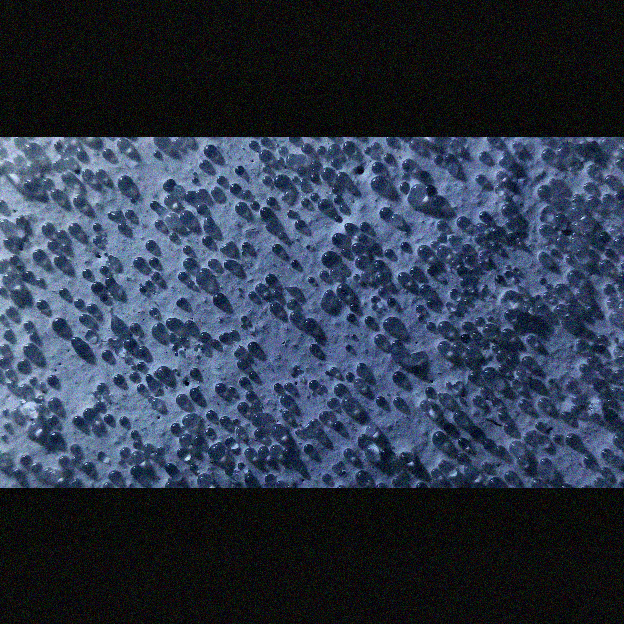GrassBeadSeg: (21, 135, 612, 463), (19, 193, 581, 463), (72, 163, 596, 424), (117, 139, 598, 420), (138, 167, 589, 462), (94, 145, 565, 412), (17, 253, 573, 466), (102, 147, 546, 406), (18, 143, 560, 347), (103, 157, 501, 423), (54, 195, 541, 408), (201, 223, 609, 476), (47, 158, 484, 384), (244, 152, 552, 457), (269, 180, 592, 462), (47, 234, 567, 408), (27, 303, 565, 462), (51, 202, 513, 385), (17, 212, 557, 368), (126, 208, 581, 391), (241, 240, 577, 482), (58, 307, 566, 465), (130, 169, 406, 455), (194, 176, 506, 419), (179, 209, 514, 424), (199, 173, 613, 340), (273, 147, 553, 393), (212, 186, 593, 363), (23, 319, 523, 453), (240, 190, 575, 390), (69, 221, 579, 349), (129, 150, 489, 331), (117, 210, 489, 383), (49, 181, 295, 441), (183, 220, 461, 446), (92, 227, 533, 365), (281, 177, 584, 370), (108, 199, 315, 479), (92, 241, 339, 471), (400, 193, 607, 460), (194, 228, 447, 443), (182, 215, 465, 406), (72, 194, 613, 292), (414, 149, 568, 481), (152, 321, 571, 442), (99, 263, 596, 363), (177, 277, 467, 448), (154, 219, 466, 373), (36, 183, 408, 308), (189, 173, 351, 457), (78, 178, 469, 288), (167, 203, 333, 457), (117, 200, 348, 378), (244, 204, 536, 344), (81, 147, 201, 486), (250, 139, 368, 481), (82, 318, 484, 418), (163, 144, 327, 389), (54, 183, 550, 264), (23, 142, 311, 279), (228, 243, 485, 394), (266, 218, 525, 365), (144, 372, 543, 467), (330, 153, 481, 403), (189, 323, 461, 461), (303, 277, 513, 453), (54, 253, 361, 373), (344, 177, 552, 350), (207, 143, 422, 310), (139, 169, 505, 267), (149, 199, 275, 482), (33, 188, 213, 384), (327, 142, 473, 380), (126, 197, 258, 457), (78, 297, 495, 379), (274, 152, 465, 330), (30, 255, 368, 355), (271, 229, 444, 421), (48, 362, 587, 423), (129, 144, 266, 381), (450, 137, 565, 418), (342, 144, 478, 381), (107, 192, 288, 367), (170, 309, 421, 432), (208, 321, 435, 457), (28, 301, 353, 392), (123, 337, 466, 422), (41, 140, 354, 233), (123, 179, 293, 350), (58, 193, 340, 296), (154, 234, 447, 332), (444, 158, 621, 320), (363, 146, 612, 260), (245, 206, 392, 399), (42, 258, 605, 308), (281, 158, 511, 278), (149, 249, 472, 331), (112, 173, 237, 384), (263, 205, 562, 293), (95, 167, 515, 228), (154, 364, 429, 457), (74, 259, 229, 424), (386, 162, 560, 306), (36, 174, 225, 306), (433, 153, 529, 408), (150, 243, 432, 329), (255, 287, 449, 409), (220, 192, 318, 426), (237, 258, 385, 411), (235, 345, 477, 438), (212, 174, 386, 303), (91, 286, 514, 339), (114, 314, 246, 480), (196, 187, 277, 437), (355, 194, 545, 298), (101, 342, 318, 433), (149, 221, 355, 314), (154, 137, 421, 208), (304, 151, 497, 249), (9, 257, 458, 298), (57, 156, 282, 237), (25, 176, 97, 428), (109, 241, 501, 286), (215, 148, 272, 457), (82, 269, 225, 392), (375, 217, 468, 405), (165, 316, 348, 410), (125, 210, 298, 309), (88, 406, 485, 448), (495, 354, 615, 488), (22, 341, 248, 411), (29, 351, 504, 383), (419, 314, 574, 412), (504, 174, 608, 320), (300, 218, 433, 329), (10, 207, 264, 265), (88, 302, 468, 340), (352, 212, 564, 279), (469, 287, 623, 379), (93, 418, 284, 486), (445, 309, 617, 384), (399, 180, 609, 241), (229, 258, 605, 292), (53, 176, 98, 442), (350, 213, 446, 336), (240, 249, 375, 336), (380, 157, 440, 344), (248, 140, 293, 389), (150, 250, 548, 278), (245, 398, 431, 457), (533, 302, 604, 456), (119, 335, 209, 456), (32, 247, 226, 303), (280, 431, 474, 487), (205, 310, 302, 419), (227, 356, 497, 394), (250, 315, 368, 401), (274, 288, 334, 456), (191, 151, 512, 182), (236, 323, 450, 369), (103, 275, 158, 448), (210, 144, 286, 268), (497, 203, 616, 282), (207, 257, 277, 391), (387, 247, 517, 319), (451, 297, 617, 353), (372, 262, 496, 335), (398, 219, 446, 405), (142, 367, 525, 390), (52, 316, 198, 376), (474, 140, 521, 323), (448, 233, 514, 363), (466, 339, 603, 401), (119, 137, 287, 186), (279, 290, 350, 404), (494, 385, 614, 451), (269, 300, 333, 422), (247, 289, 325, 389), (366, 259, 492, 320), (117, 174, 187, 282), (26, 146, 82, 280), (122, 318, 193, 423), (287, 332, 385, 405), (61, 294, 379, 316), (411, 264, 505, 338), (399, 385, 490, 460), (475, 331, 543, 428), (148, 233, 343, 266), (448, 258, 612, 297), (123, 316, 315, 349), (103, 210, 171, 303), (281, 196, 309, 419), (242, 368, 403, 406), (197, 203, 294, 266), (305, 244, 385, 320), (93, 233, 212, 284), (512, 146, 551, 299), (146, 394, 299, 433), (82, 397, 161, 471), (68, 225, 111, 358), (51, 188, 109, 283), (164, 193, 576, 206), (185, 256, 381, 283), (254, 195, 275, 437), (3, 420, 80, 486), (396, 271, 436, 397), (129, 321, 489, 335), (252, 378, 358, 425), (144, 278, 213, 350), (28, 312, 146, 354), (518, 337, 586, 407), (197, 181, 344, 213), (378, 173, 484, 217), (255, 266, 413, 295), (230, 246, 372, 278), (261, 163, 338, 221), (382, 240, 408, 407), (24, 140, 63, 251), (36, 442, 180, 472), (239, 271, 276, 386), (58, 215, 214, 242), (6, 176, 67, 245), (234, 164, 269, 283), (331, 231, 374, 326), (138, 279, 193, 353), (178, 434, 256, 485), (469, 426, 536, 485), (338, 463, 500, 487), (41, 218, 300, 233), (14, 135, 29, 392), (494, 405, 577, 451), (176, 159, 202, 305), (119, 415, 284, 438), (54, 382, 144, 424), (454, 342, 538, 386), (30, 292, 106, 339), (391, 292, 430, 383), (356, 432, 434, 476), (252, 289, 280, 409), (197, 443, 273, 487), (293, 338, 401, 368), (538, 223, 551, 467), (182, 249, 337, 269), (354, 377, 392, 458), (291, 154, 345, 211), (485, 353, 517, 448), (449, 257, 516, 302), (92, 221, 349, 232), (277, 215, 349, 254), (182, 432, 287, 458), (87, 301, 357, 311), (321, 244, 448, 265), (575, 191, 616, 256), (193, 434, 294, 458), (156, 201, 244, 228), (371, 160, 477, 182), (512, 239, 528, 382), (150, 398, 187, 458), (185, 189, 307, 207), (370, 141, 389, 256), (487, 371, 549, 406), (153, 155, 178, 240), (137, 331, 228, 354), (1, 383, 45, 429), (170, 460, 249, 485), (462, 462, 540, 487), (448, 140, 566, 156), (527, 435, 594, 463), (15, 214, 41, 285), (327, 361, 367, 407), (429, 458, 520, 478), (51, 170, 73, 252), (91, 255, 142, 290), (600, 298, 611, 456), (503, 428, 623, 442), (573, 220, 591, 311), (335, 282, 349, 394), (595, 333, 619, 395), (16, 455, 80, 478), (553, 177, 576, 241), (11, 466, 81, 487), (432, 250, 488, 276), (480, 396, 498, 470), (244, 174, 299, 198), (66, 149, 160, 163), (305, 243, 344, 276), (143, 447, 196, 471), (424, 151, 453, 194), (130, 343, 181, 367), (383, 270, 431, 295), (309, 165, 335, 211), (175, 392, 217, 420), (13, 146, 57, 172), (1, 271, 14, 352), (426, 239, 456, 274), (252, 419, 341, 430), (281, 172, 317, 199), (579, 213, 590, 297), (436, 229, 503, 242), (494, 273, 550, 288), (118, 445, 162, 463), (401, 175, 434, 199), (143, 442, 169, 472), (504, 263, 544, 282), (73, 267, 92, 306), (466, 329, 495, 354), (26, 155, 73, 170), (482, 454, 528, 469), (332, 382, 356, 410), (464, 355, 506, 371), (294, 258, 327, 278), (286, 208, 341, 220), (316, 144, 334, 180), (262, 150, 281, 184), (1, 270, 44, 285), (309, 386, 325, 426), (503, 421, 533, 441), (235, 401, 252, 436), (609, 189, 621, 234), (177, 333, 224, 344), (575, 287, 596, 311), (204, 426, 230, 445), (4, 327, 12, 387), (4, 330, 14, 378), (284, 153, 305, 175), (178, 337, 219, 348), (491, 341, 505, 373), (321, 459, 341, 481), (2, 222, 19, 245), (612, 345, 623, 378), (461, 233, 479, 253), (416, 298, 433, 319), (336, 170, 347, 202), (130, 437, 139, 476), (481, 221, 500, 239), (382, 315, 400, 333), (46, 238, 69, 252), (12, 379, 43, 389), (330, 158, 339, 192), (0, 345, 9, 377), (313, 426, 335, 439), (224, 430, 240, 445), (474, 221, 484, 244), (462, 249, 474, 265), (145, 238, 155, 249), (130, 428, 138, 437)
